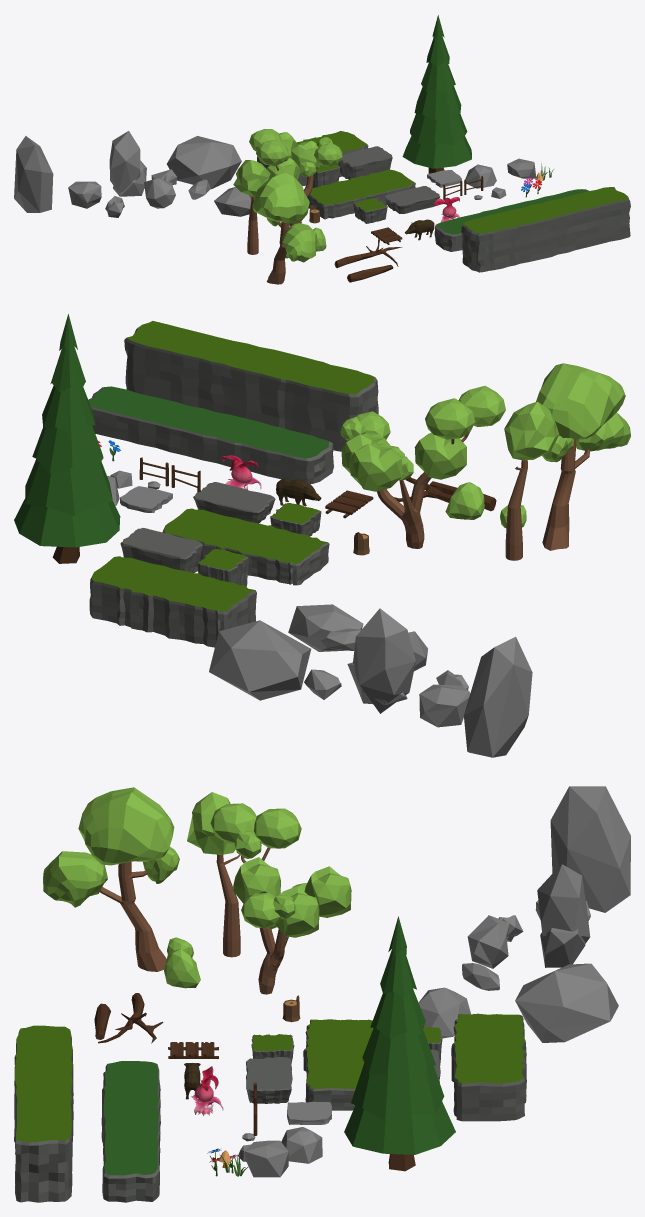
Rendered from говно говна.fbx.
3 views of the same model, one above another, from view 1: azimuth 30°, elevation 25°; view 2: azimuth 150°, elevation 25°; view 3: azimuth 270°, elevation 25° (orthographic). The views are drawn at different scales.
Parts seen in each view (by area): view 1: Плоскость.002, елка, Цилиндр.001, Икосфера.008, платформа, камень.008, камень.005, камень.006, Плоскость.001, Цилиндр, платформа.004, платформа.001 (+11 smaller); view 2: Плоскость.002, елка, Плоскость.001, Икосфера.008, платформа.005, Цилиндр.001, платформа, камень.005, камень.008, камень.006, Цилиндр, платформа.004 (+12 smaller); view 3: елка, Цилиндр.001, Икосфера.008, Плоскость.002, Плоскость.001, платформа.005, камень.005, камень.008, платформа, камень.006, Цилиндр, платформа.001 (+11 smaller).
Part boxes in pixels (<box>): Плоскость.002: <box>461,187,630,272</box>; елка: <box>402,15,471,173</box>; Цилиндр.001: <box>252,173,317,284</box>; Икосфера.008: <box>249,129,342,226</box>; платформа: <box>307,169,415,219</box>; камень.008: <box>167,136,241,189</box>; камень.005: <box>14,136,53,212</box>; камень.006: <box>109,131,146,196</box>; Плоскость.001: <box>434,189,588,251</box>; Цилиндр: <box>233,160,270,254</box>; платформа.004: <box>338,146,392,179</box>; платформа.001: <box>384,186,440,213</box>; Плоскость.002: <box>124,321,378,451</box>; елка: <box>14,314,120,563</box>; Плоскость.001: <box>88,386,333,483</box>; Икосфера.008: <box>340,385,505,548</box>; платформа.005: <box>89,556,256,647</box>; Цилиндр.001: <box>536,363,630,550</box>; платформа: <box>162,508,329,585</box>; камень.005: <box>464,636,532,757</box>; камень.008: <box>209,620,311,700</box>; камень.006: <box>347,608,415,713</box>; Цилиндр: <box>504,401,559,560</box>; платформа.004: <box>120,527,202,572</box>; елка: <box>344,916,455,1171</box>; Цилиндр.001: <box>43,787,179,971</box>; Икосфера.008: <box>210,803,351,994</box>; Плоскость.002: <box>14,1025,73,1202</box>; Плоскость.001: <box>101,1061,160,1202</box>; платформа.005: <box>451,1013,526,1121</box>; камень.005: <box>550,786,630,912</box>; камень.008: <box>515,963,618,1042</box>; платформа: <box>303,1019,373,1110</box>; камень.006: <box>537,864,590,967</box>; Цилиндр: <box>187,792,240,957</box>; платформа.001: <box>246,1057,292,1103</box>.
Bounding box in the file's own units: 3025 × 1110 × 2394.
